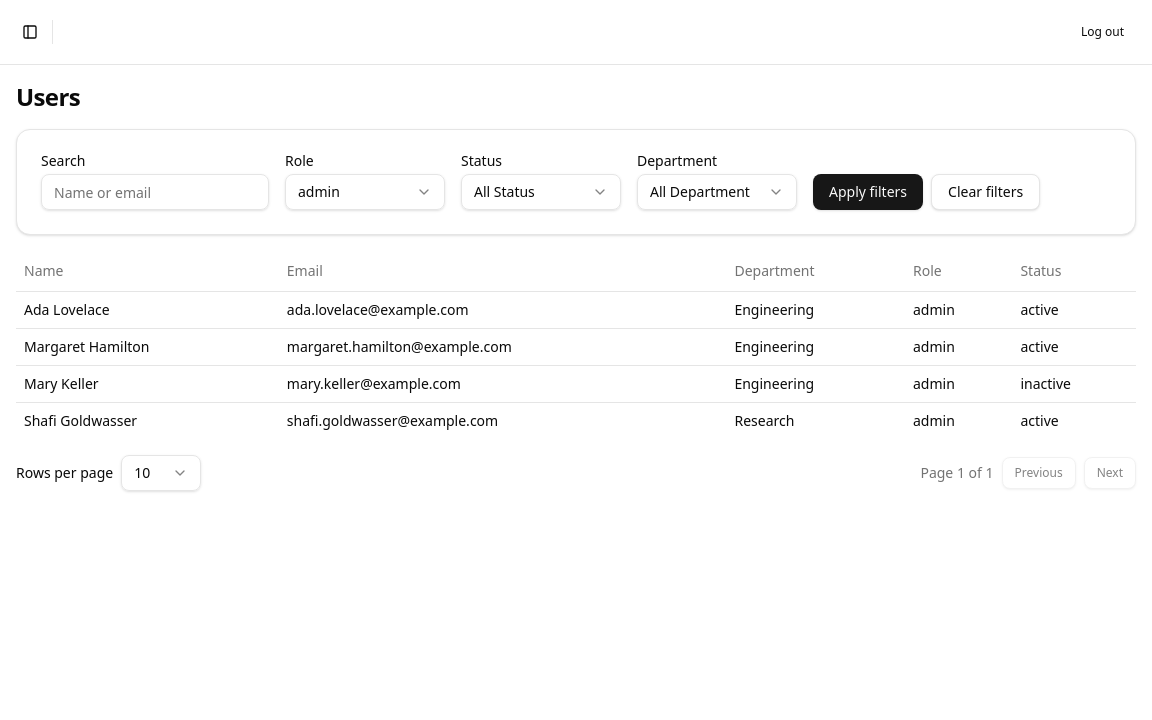
Test: /users › clears filters through the UI and restores the full list
The width and height of the screenshot is (1152, 720).
Expected: the row "Ada Lovelace" is shown, [16,291,1136,328]
Expected: the row "Grace Hopper" is not shown
What coordinates should you click on to do the following:
click the button "Clear filters"
I would click on:
 (986, 192)
Its box is [931,174,1040,210].
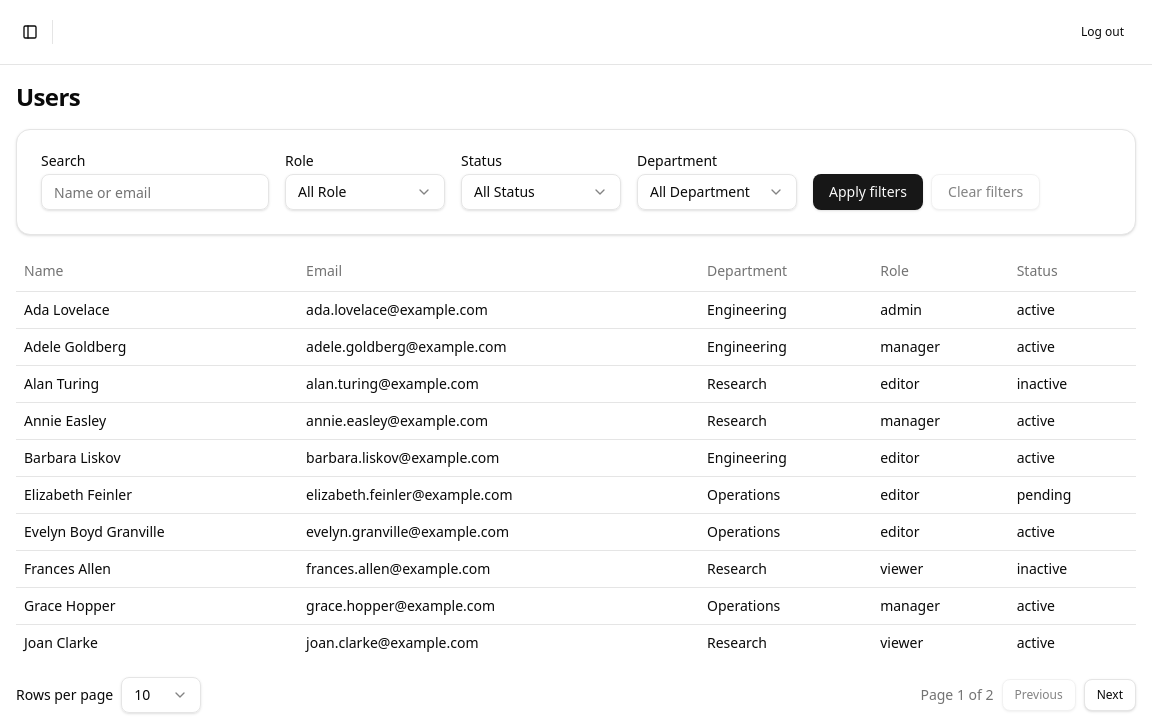
Expected: the row "Grace Hopper" is shown, [16,587,1136,624]
Expected: the dropdown labelled "Role" reads "All Role", [285,174,445,210]
